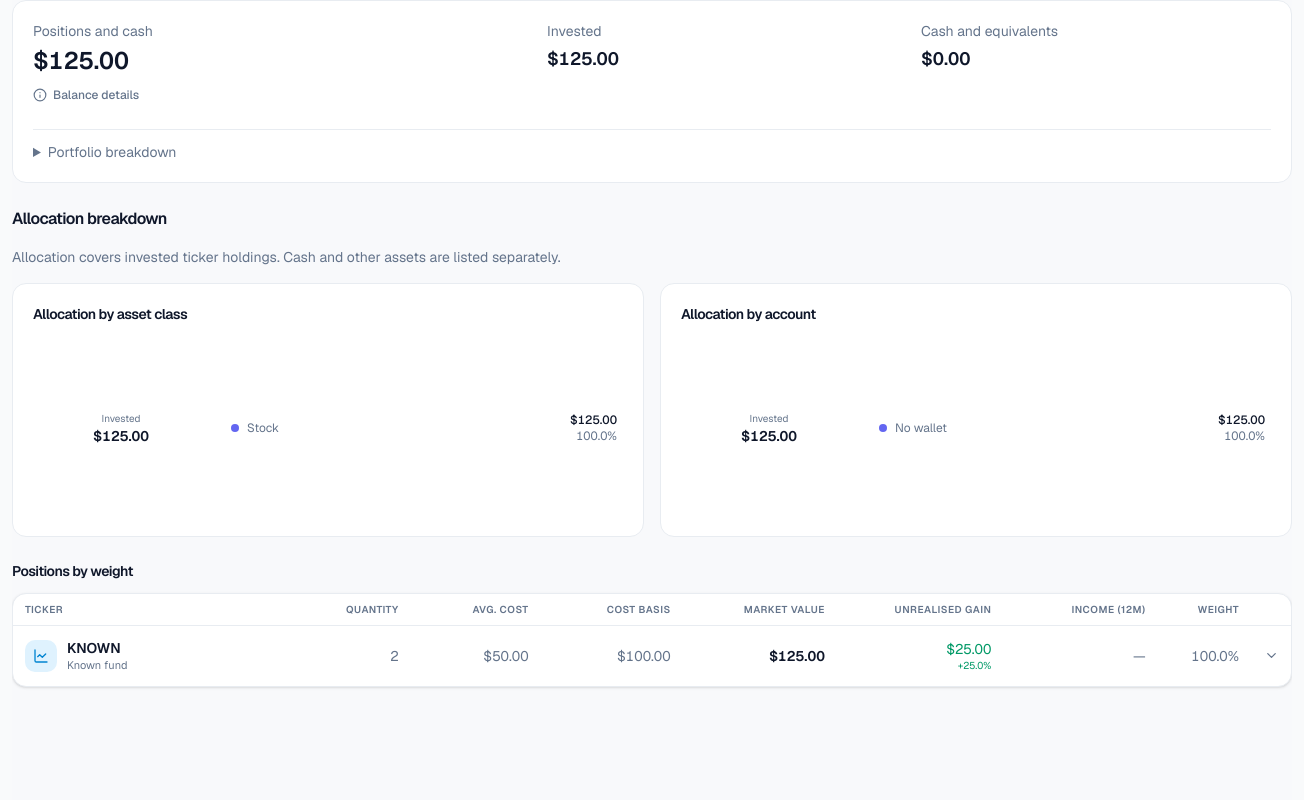
Test case: keeps compact value and gain readable, with the remaining position details on expansion
Expected: the text "$125.00" is shown, [769,647,825,665]
Expected: the number of headings "Positions by weight" is 1, [12,561,133,581]
Click the button "KNOWN": (652, 656) [13,626,1291,686]
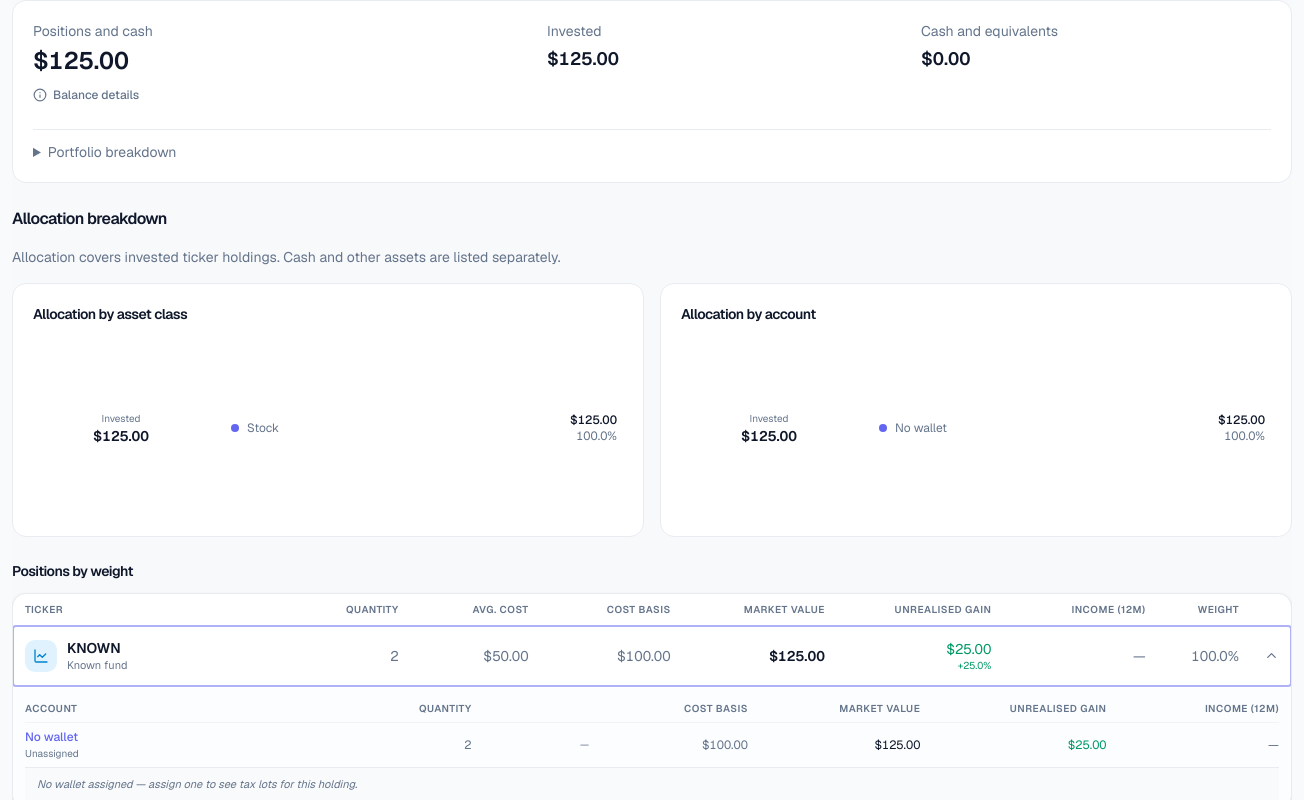
Expected: the button "KNOWN" is expanded, [13,626,1291,686]
